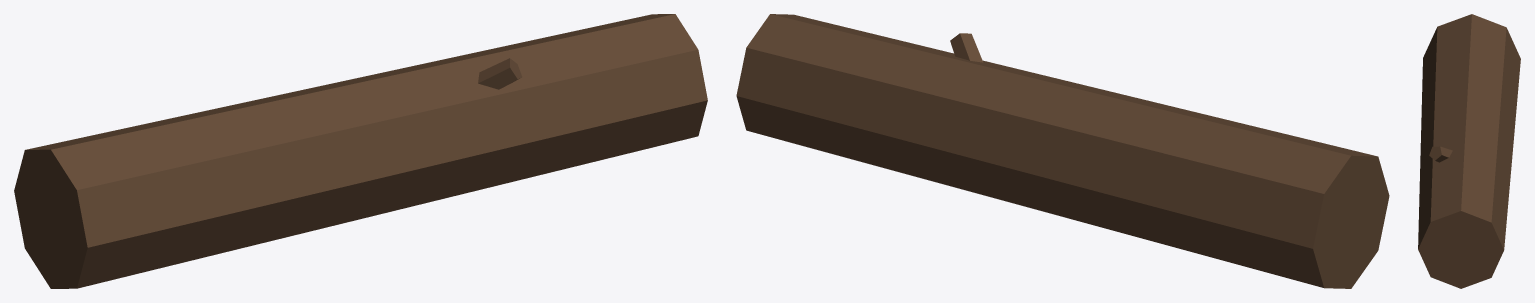
The model's file is log.fbx.
3 views of the same model, side by side, from view 1: azimuth 30°, elevation 25°; view 2: azimuth 150°, elevation 25°; view 3: azimuth 270°, elevation 25° (orthographic). The views are drawn at different scales.
Parts seen in each view (by area): view 1: Log; view 2: Log; view 3: Log.
Part boxes in pixels (x1,y1,x2,y2): Log: (14,14,707,288); Log: (736,14,1389,288); Log: (1418,14,1520,288).
Bounding box in the file's own units: 2.51 × 0.5554 × 0.5675.
